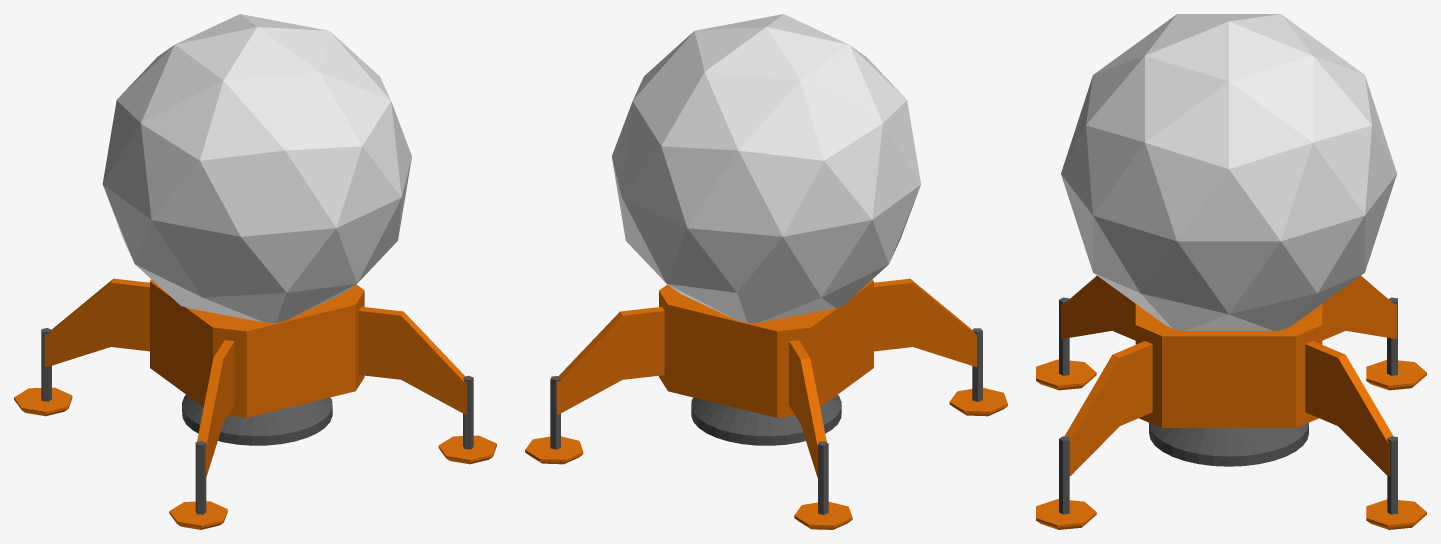
File: Lander2.gltf
3 renders of one model, left to right at view 1: azimuth 30°, elevation 25°; view 2: azimuth 150°, elevation 25°; view 3: azimuth 270°, elevation 25°, orthographic. The views are drawn at different scales.
Visible parts, largest first — view 1: Icosphere.002, Cube.005, Cylinder.024, Cylinder.017, Cylinder.018, Cylinder.019, Cylinder.021, Cylinder.022, Cylinder.020; view 2: Icosphere.002, Cube.005, Cylinder.024, Cylinder.019, Cylinder.016, Cylinder.017, Cylinder.020, Cylinder.023, Cylinder.021; view 3: Icosphere.002, Cube.005, Cylinder.024, Cylinder.018, Cylinder.016, Cylinder.017, Cylinder.019, Cylinder.022, Cylinder.023, Cylinder.021, Cylinder.020.
Boxes of the visible parts, x1,y1,x2,y2 form: Icosphere.002: (102,14,411,322); Cube.005: (45,278,466,478); Cylinder.024: (182,394,332,445); Cylinder.017: (169,501,227,529); Cylinder.018: (438,435,496,464); Cylinder.019: (14,387,72,416); Cylinder.021: (195,441,206,514); Cylinder.022: (463,375,473,449); Cylinder.020: (41,328,51,401); Icosphere.002: (611,14,920,322); Cube.005: (557,278,977,477); Cylinder.024: (691,394,841,445); Cylinder.019: (794,502,852,529); Cylinder.016: (525,436,583,464); Cylinder.017: (949,387,1007,416); Cylinder.020: (818,441,828,514); Cylinder.023: (550,376,560,449); Cylinder.021: (972,328,982,401); Icosphere.002: (1061,14,1396,330); Cube.005: (1061,276,1396,476); Cylinder.024: (1149,423,1308,466); Cylinder.018: (1036,499,1096,529); Cylinder.016: (1366,499,1426,529); Cylinder.017: (1036,359,1096,390); Cylinder.019: (1366,360,1426,390); Cylinder.022: (1059,436,1069,514); Cylinder.023: (1387,436,1397,514); Cylinder.021: (1059,297,1069,375); Cylinder.020: (1387,297,1397,375).
Bounding box in the file's own units: 2.11 × 2.54 × 2.1.
